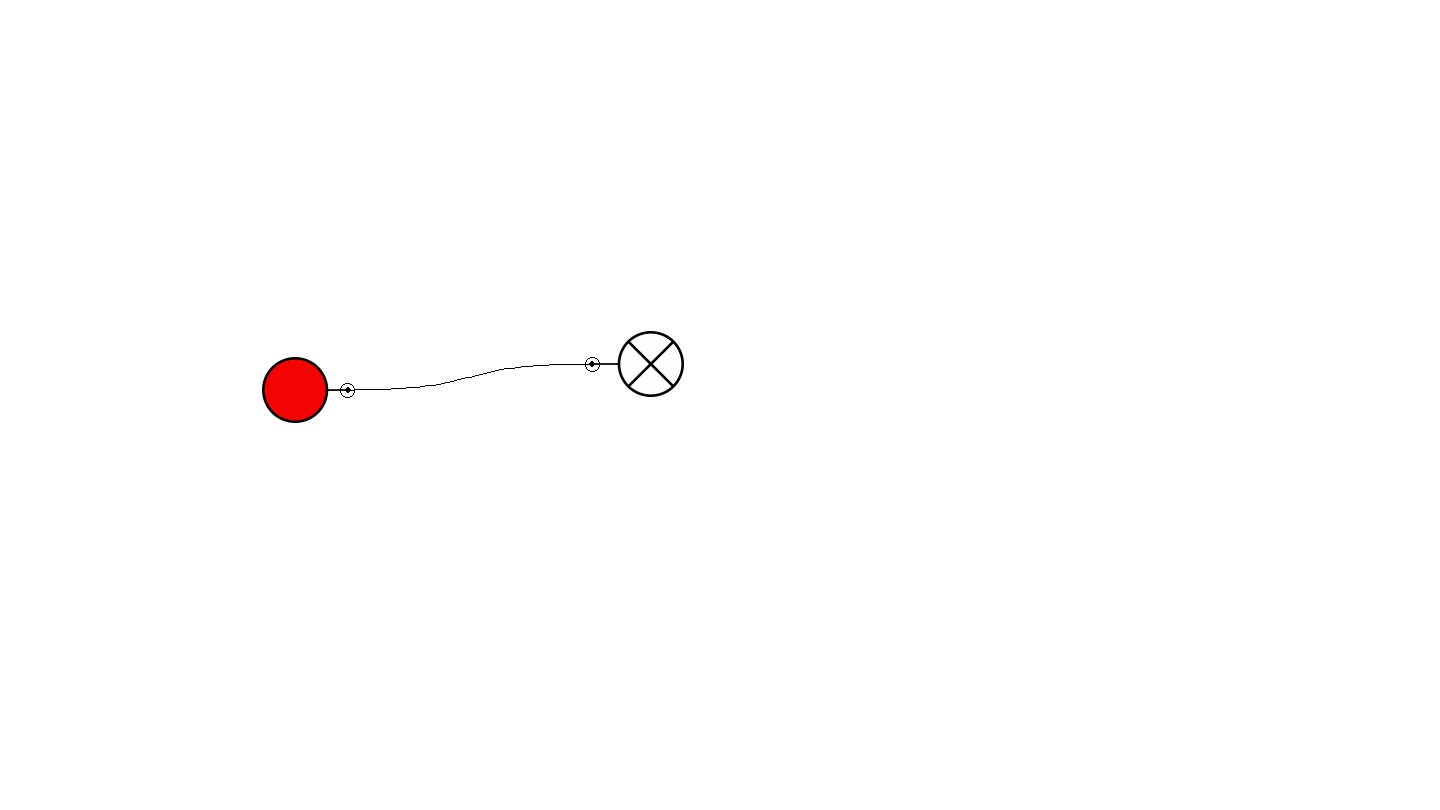bulb: (585, 331, 684, 397)
switch_False: (262, 357, 355, 423)
